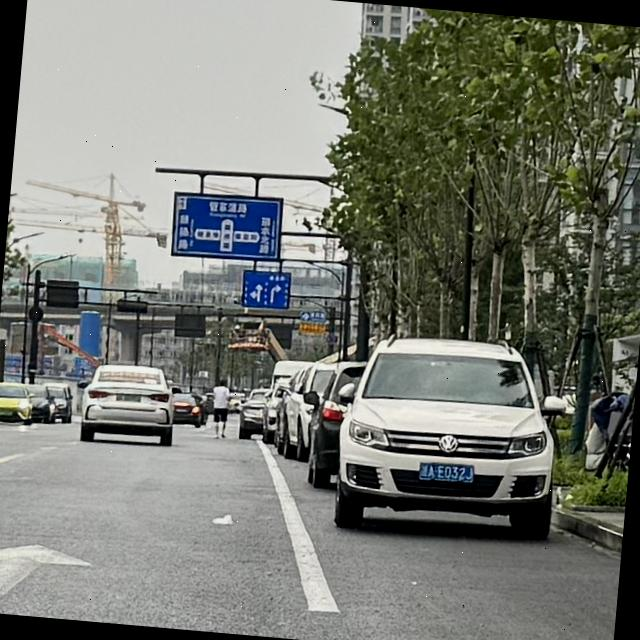curb: (554, 504, 620, 553)
